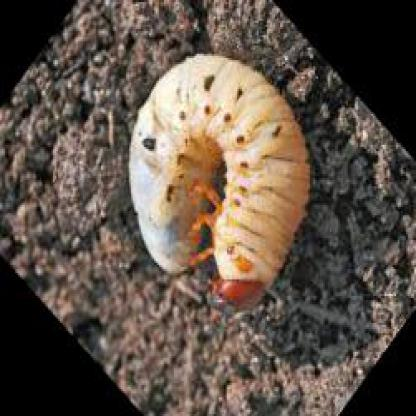root grubs: (127, 50, 308, 317)
